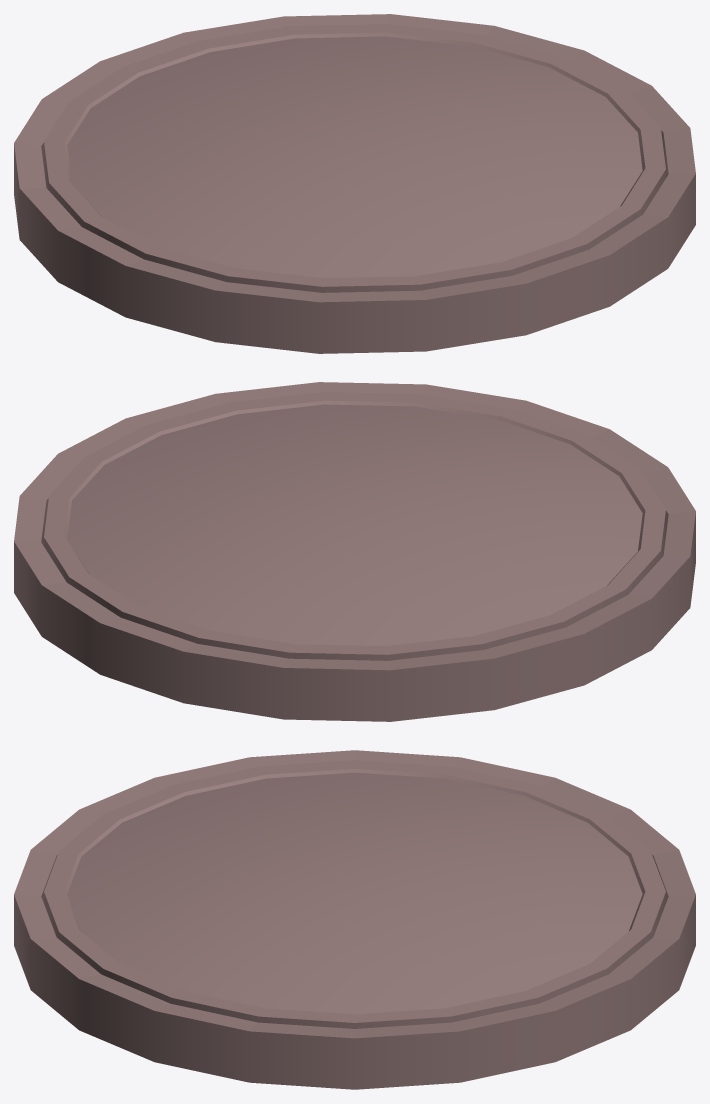
The model's file is sewer enter top wo tube.FBX.
3 views of the same model, one above another, from view 1: azimuth 30°, elevation 25°; view 2: azimuth 150°, elevation 25°; view 3: azimuth 270°, elevation 25° (orthographic).
Parts seen in each view (by area): view 1: Plane226; view 2: Plane226; view 3: Plane226.
Part boxes in pixels (left/top/right/bottom): Plane226: left=14, top=14, right=695, bottom=353; Plane226: left=14, top=382, right=695, bottom=721; Plane226: left=14, top=750, right=695, bottom=1089.
Bounding box in the file's own units: 1.18 × 0.152 × 1.18.
